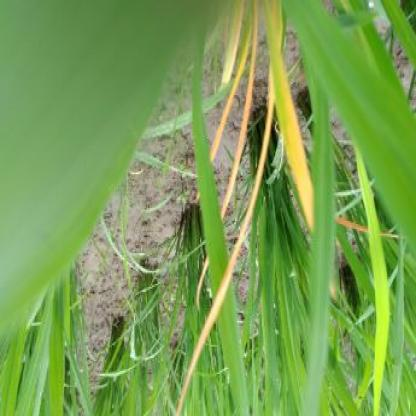Tungro: (201, 26, 284, 416)
